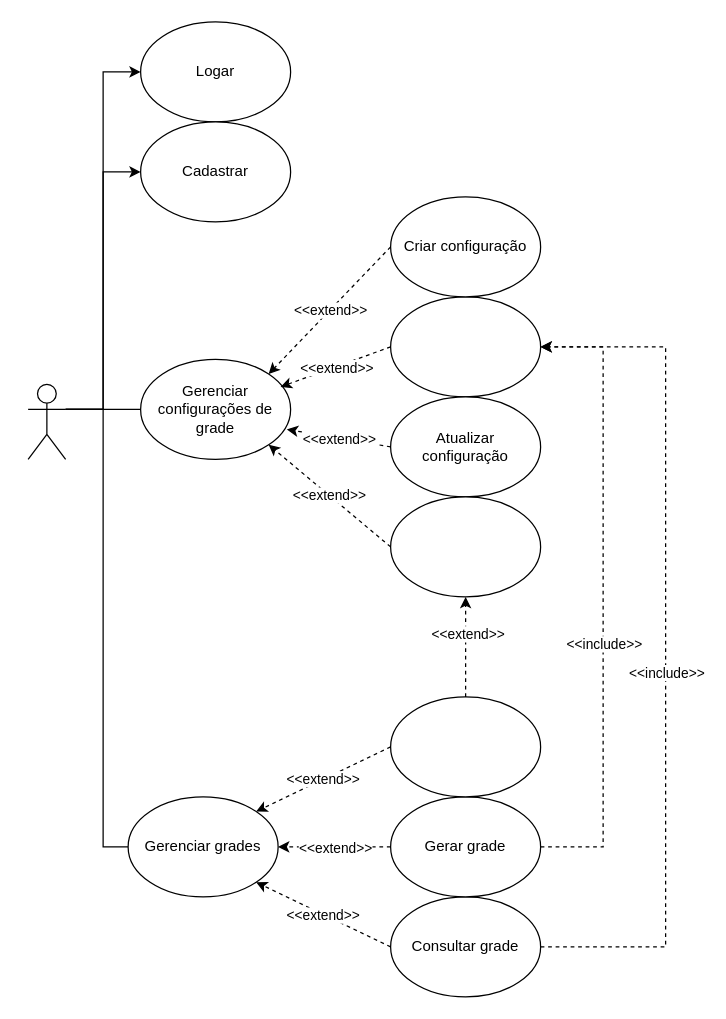
This 726x1019 diagram has some shape labels left out. The box of each missing label's shape, as (x1, y1, x2, y2) in pixels:
Consultar configuração: (389, 296, 541, 397)
Excluir configuração: (389, 496, 541, 597)
Excluir grade: (389, 696, 541, 797)
Usuário: (27, 383, 66, 459)
